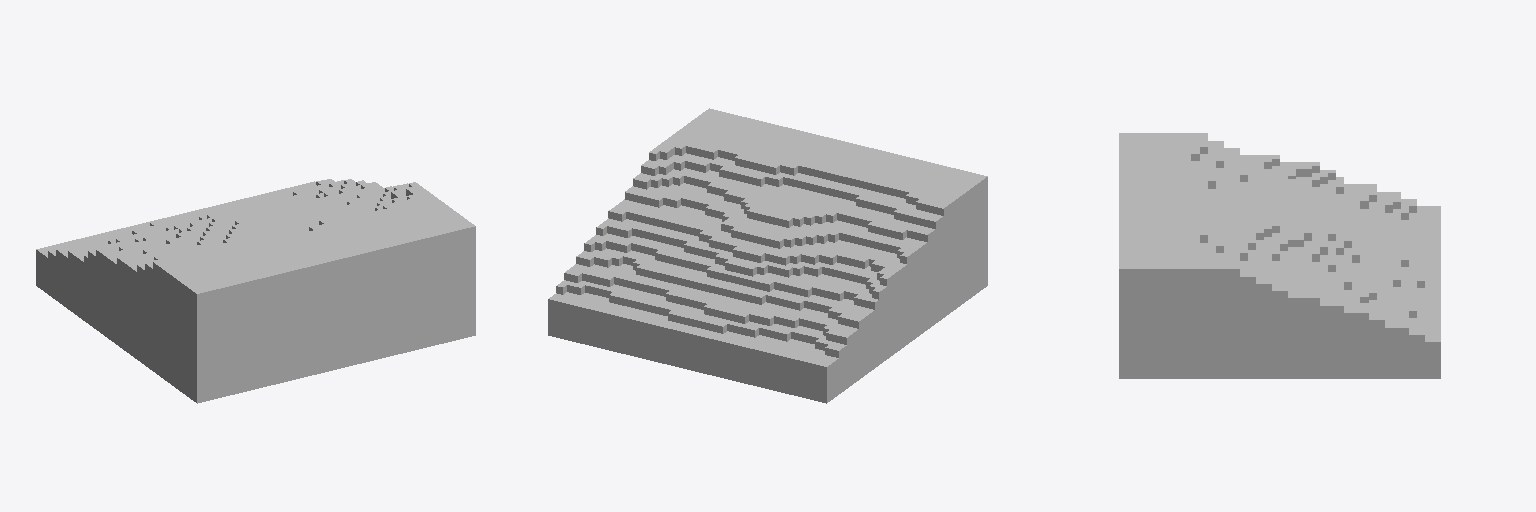
Rendered from ElevEPE.obj.
The picture shows the model from 3 angles: view 1: azimuth 30°, elevation 25°; view 2: azimuth 150°, elevation 25°; view 3: azimuth 270°, elevation 25°; orthographic projection.
Visible parts, largest first — view 1: Untitled; view 2: Untitled; view 3: Untitled.
Part boxes in pixels (x1,y1,x2,y2): Untitled: (36,179,475,403); Untitled: (548,108,987,403); Untitled: (1119,133,1440,378).
Size of the model in its own units: 4 by 1.5 by 4.